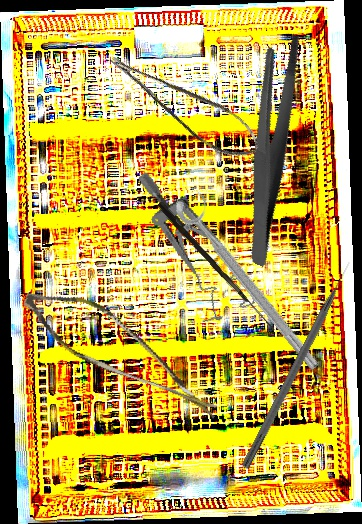Dressing Forceps: (191, 27, 350, 268)
Fixation Ring: (170, 185, 334, 375)
Hook Surgical: (241, 260, 356, 471), (154, 201, 281, 331)
Micro Scissor: (8, 279, 238, 420), (106, 31, 267, 173)
Speculum: (135, 151, 259, 332)
